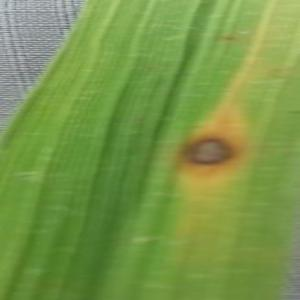Brown_Spot: (164, 111, 255, 194), (212, 27, 244, 49)
